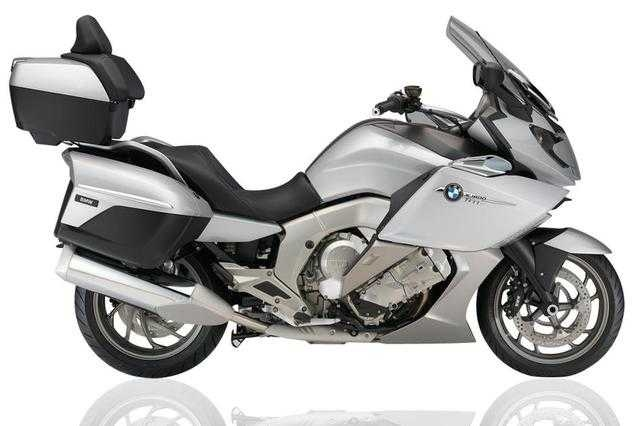motorbike: (52, 16, 625, 378)
